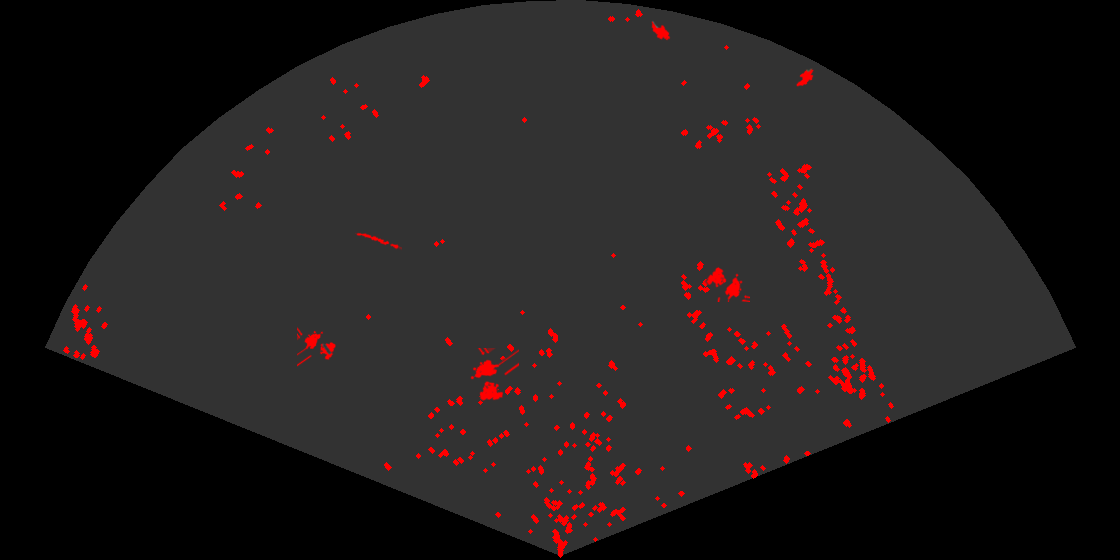AUV: (650, 20, 672, 42), (795, 67, 815, 88)
cage: (469, 348, 519, 402), (704, 265, 750, 302), (297, 326, 337, 368)
chain: (355, 231, 402, 252)
